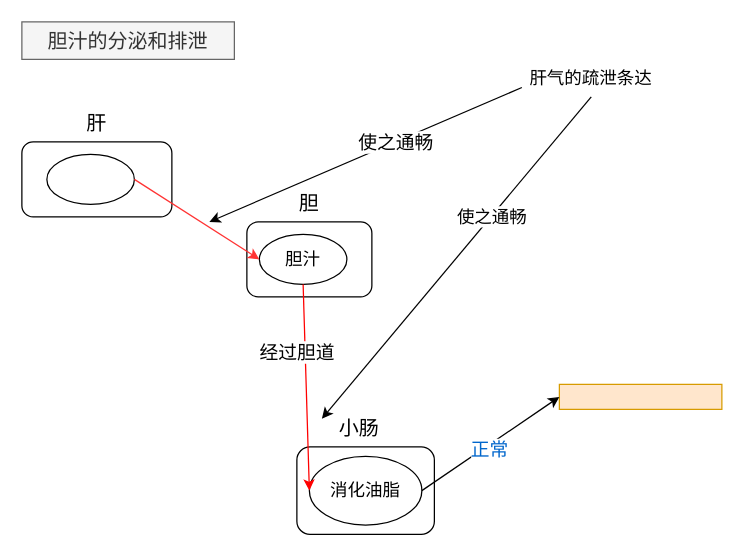
The diagram is 744 pixels wide and 556 high, and some of its shapes have lost their labels. Here are the shapes that lost their labels. From the top down, the centre of each, then its label:
At (x=90, y=178): "肝之余气".
At (x=640, y=396): "帮助脾胃消化吸收".
